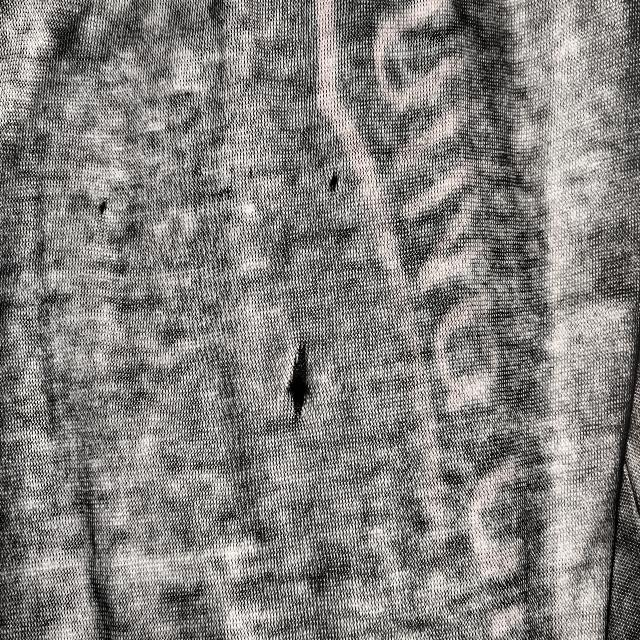Hole: (283, 334, 315, 438), (96, 192, 111, 228), (326, 165, 341, 200)
